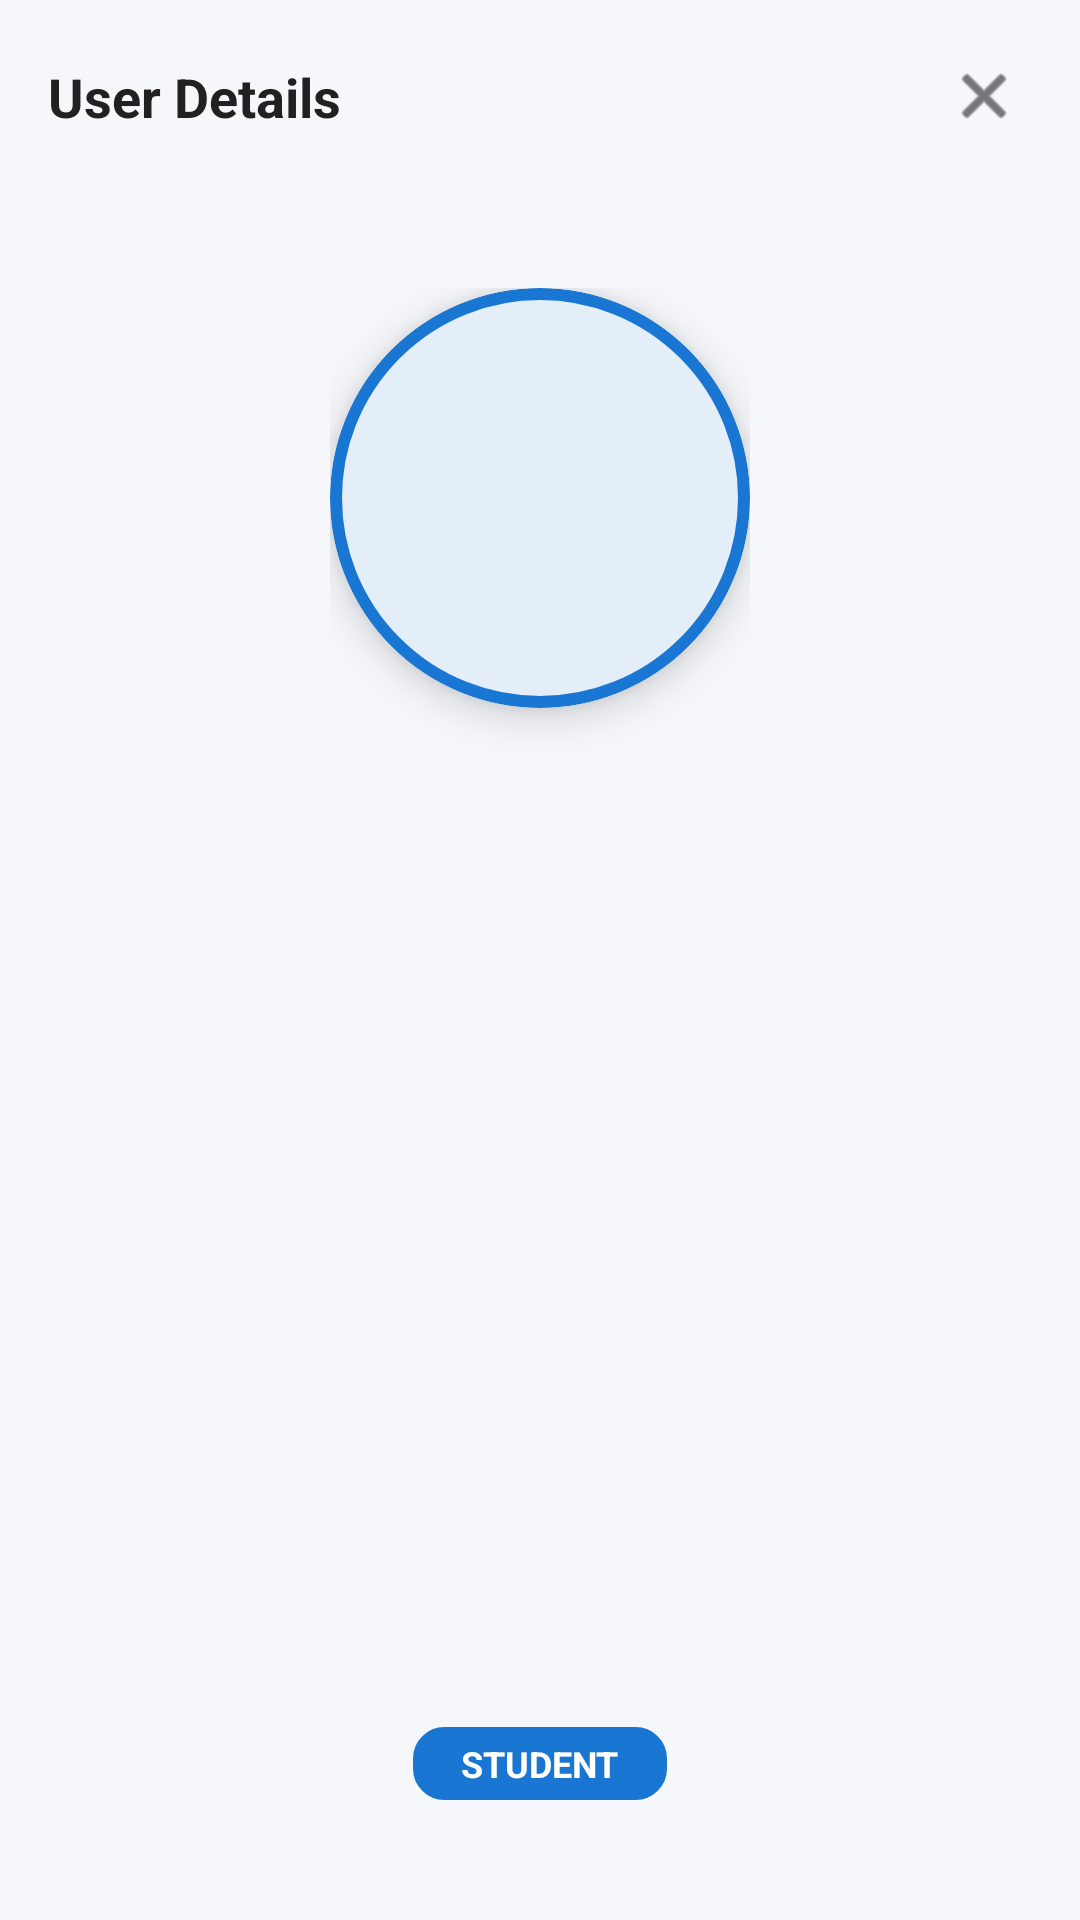

Named icons in this screenshot (1080 x 1920) and their centers, (x=x, y=y):
close clear cancel: (x=984, y=96)
